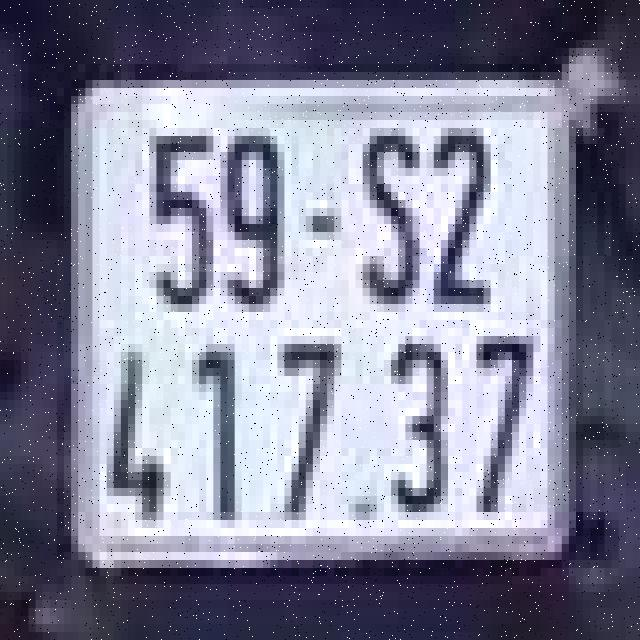1: (185, 332, 256, 532)
2: (427, 100, 498, 316)
3: (374, 324, 452, 516)
4: (96, 348, 181, 532)
5: (142, 120, 220, 312)
7: (455, 324, 541, 516), (267, 336, 345, 520)
9: (220, 120, 292, 312)
S: (348, 108, 426, 316)
